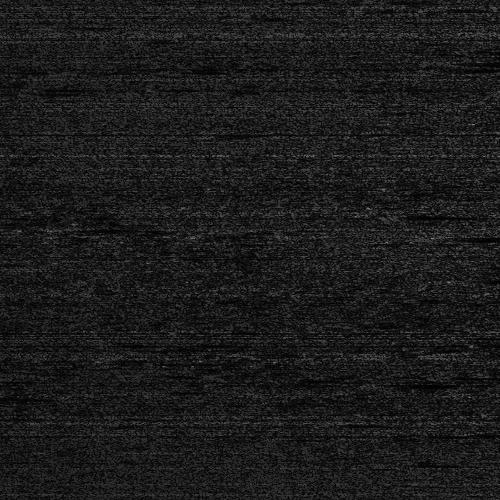object: (375, 211, 428, 218), (403, 59, 466, 64), (403, 235, 466, 240), (457, 349, 488, 352)
shadow: (402, 211, 470, 218), (435, 59, 500, 64), (435, 235, 500, 240), (473, 349, 500, 352)
